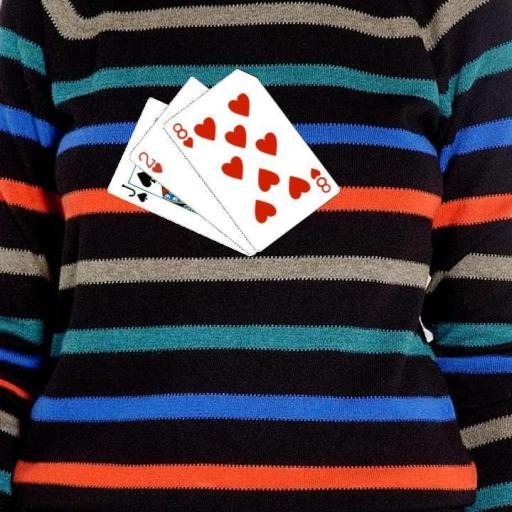card-corner: (134, 148, 164, 175), (168, 120, 195, 150), (307, 164, 332, 195), (118, 181, 149, 204)
